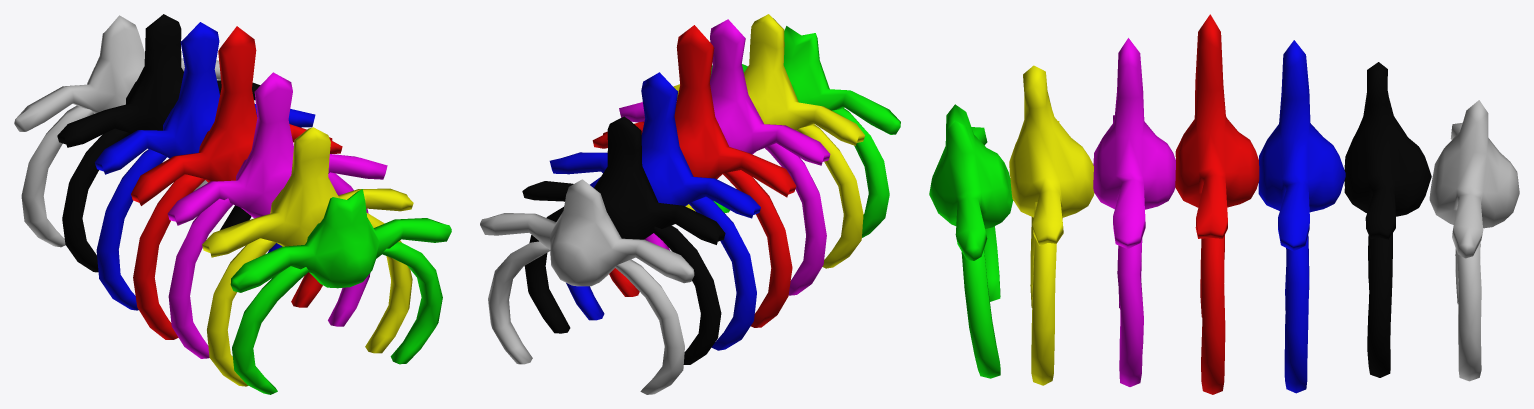
Rendered from espina dorsal con uvs.fbx.
3 renders of one model, left to right at view 1: azimuth 30°, elevation 25°; view 2: azimuth 150°, elevation 25°; view 3: azimuth 270°, elevation 25°, orthographic. The views are drawn at different scales.
Parts seen in each view (by area): view 1: polySurface53; view 2: polySurface53; view 3: polySurface53.
Part boxes in pixels (x1,y1,x2,y2): polySurface53: (14, 14, 451, 394); polySurface53: (480, 14, 900, 394); polySurface53: (929, 14, 1519, 394).
Bounding box in the file's own units: 8.51 × 10.7 × 16.76.
